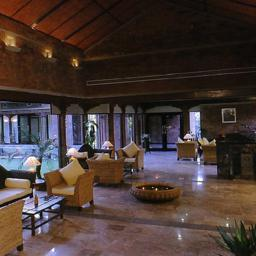Otro Obstaculo: (132, 181, 185, 203)
Puerta: (148, 114, 179, 150)
Ventana: (5, 105, 58, 167), (61, 108, 85, 149), (114, 115, 122, 149)
